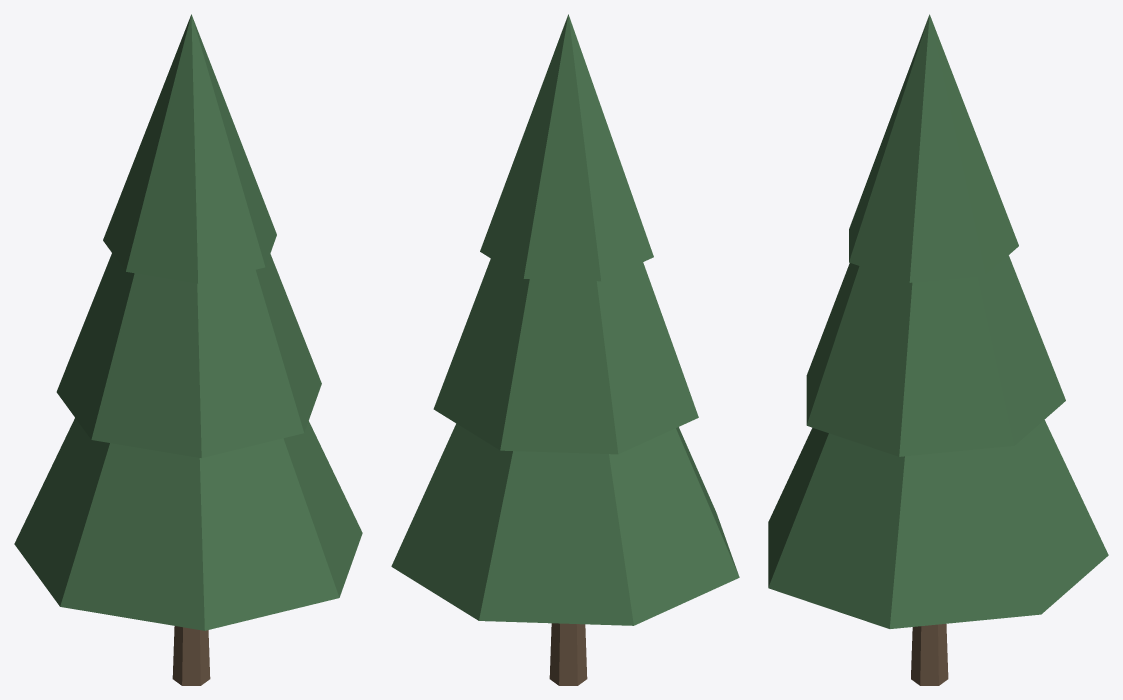
Rendered from tree.glb.
3 views of the same model, side by side, from view 1: azimuth 30°, elevation 25°; view 2: azimuth 150°, elevation 25°; view 3: azimuth 270°, elevation 25° (orthographic).
Visible parts, largest first — view 1: tree; view 2: tree; view 3: tree.
Part boxes in pixels (bbox=[...]): tree: bbox=[14, 14, 362, 685]; tree: bbox=[391, 14, 739, 685]; tree: bbox=[768, 14, 1108, 685].
Bounding box in the file's own units: 4.09 × 8.6 × 3.99.
